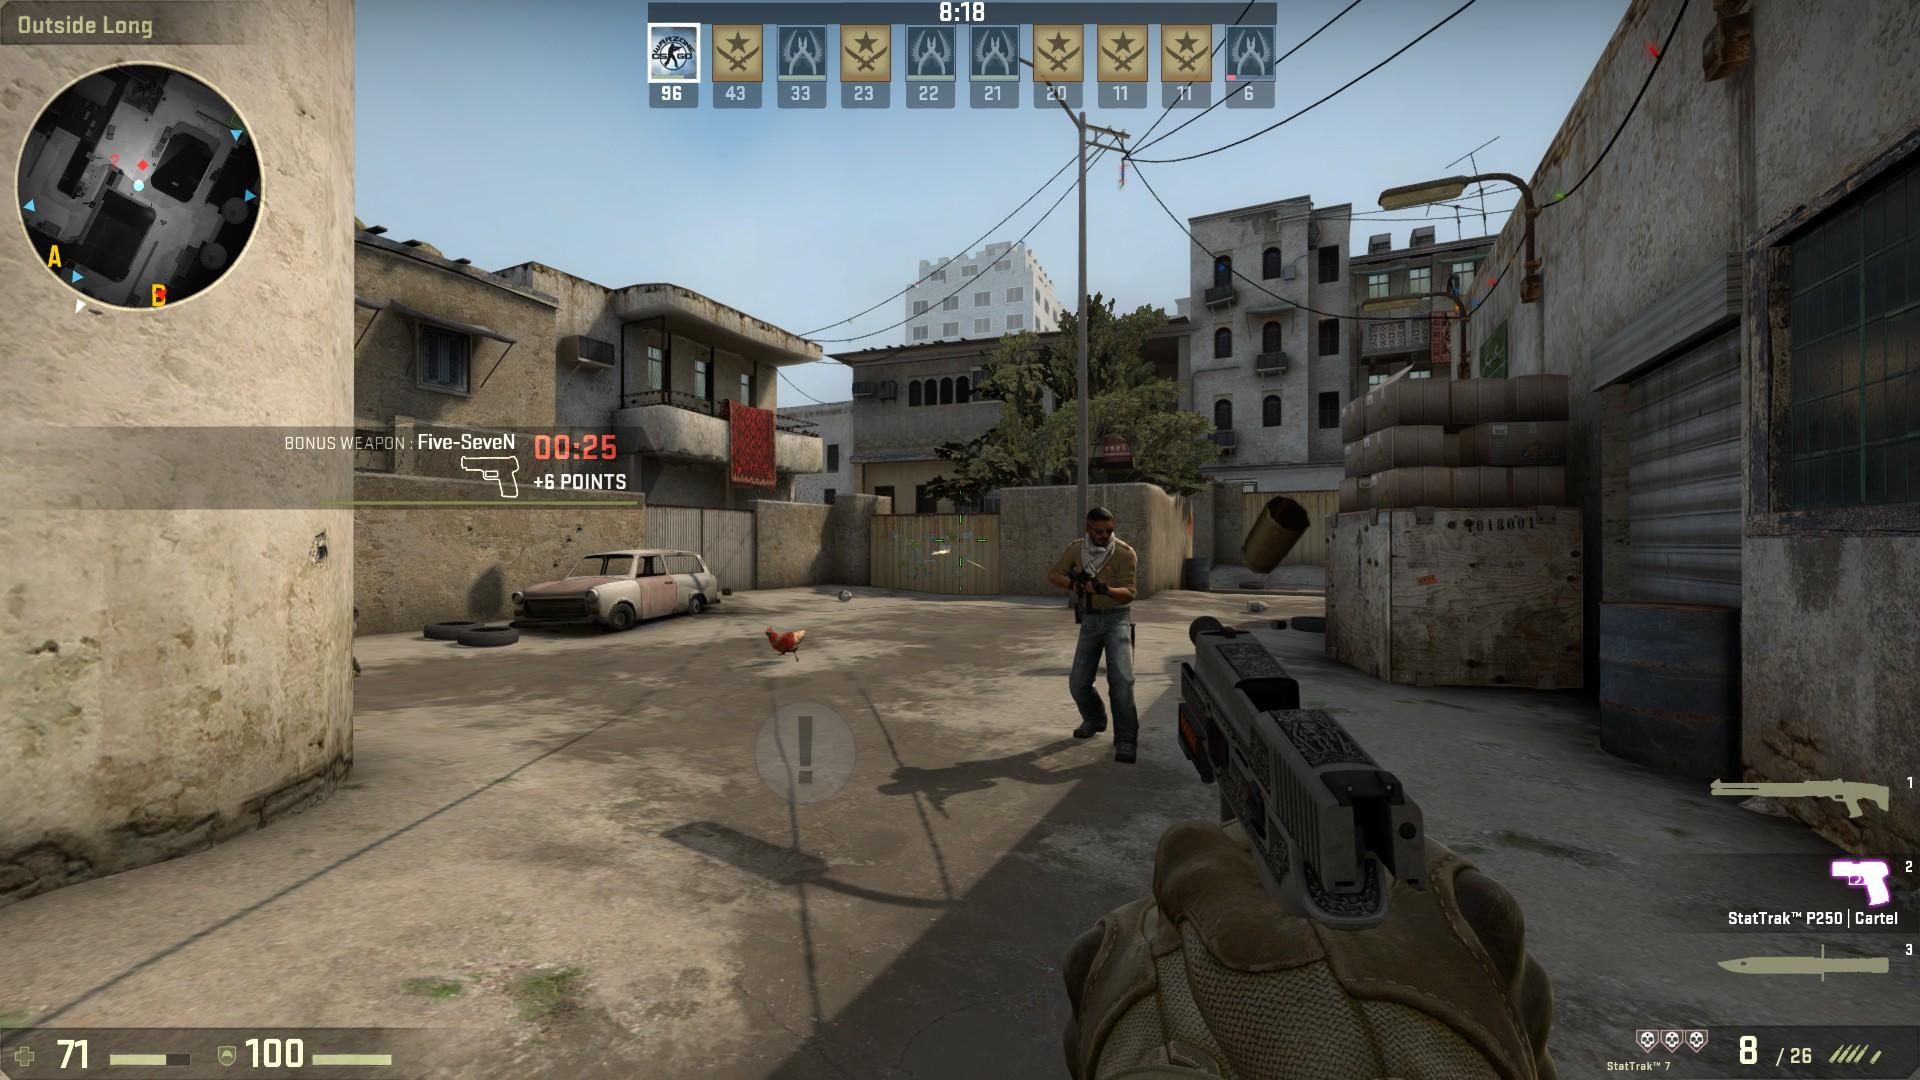t: (1050, 506, 1153, 770)
th: (1081, 505, 1120, 550)
